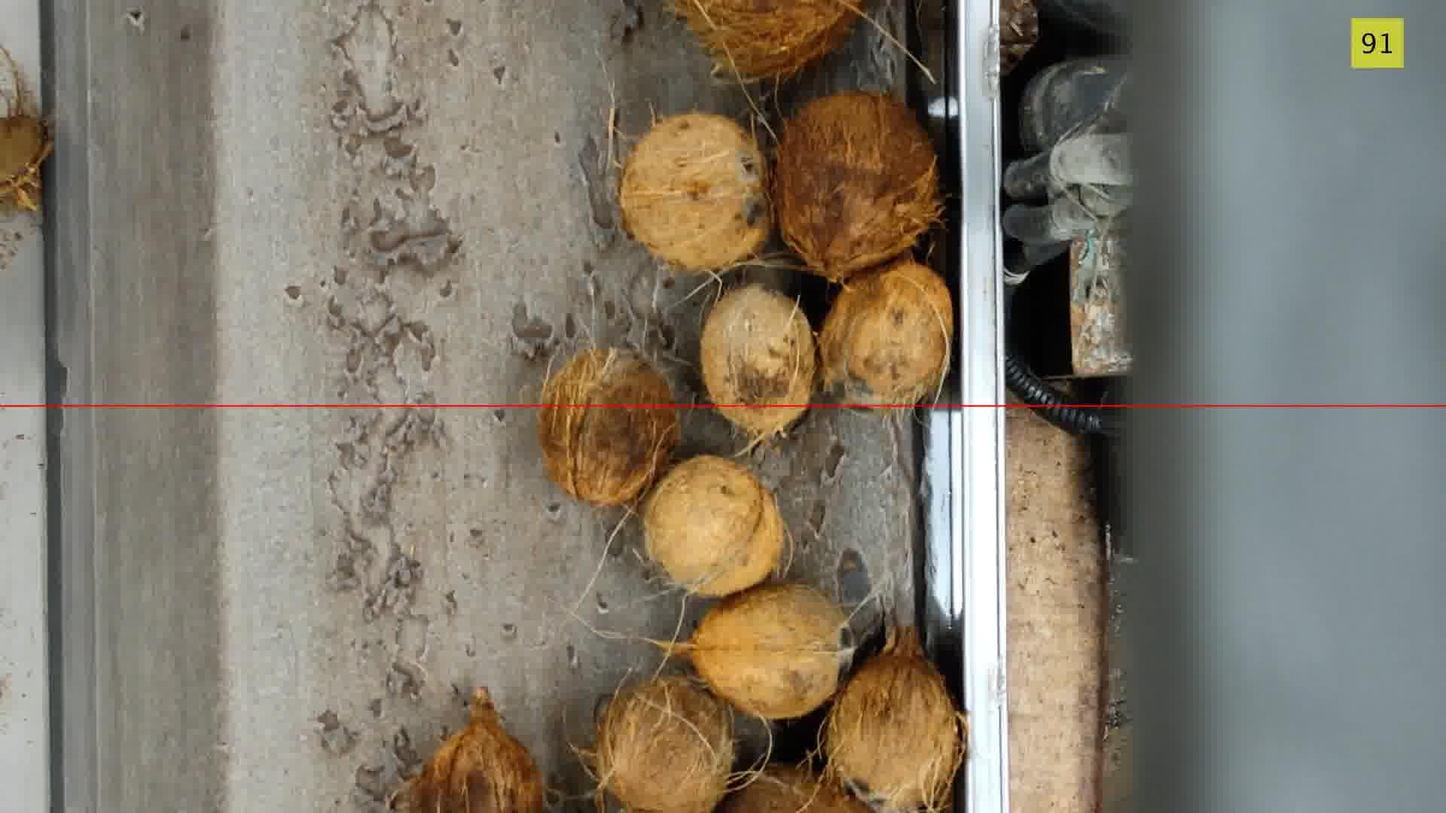Coconut: (773, 92, 941, 281), (824, 629, 966, 812), (617, 112, 772, 272), (677, 583, 853, 720), (538, 349, 680, 506), (819, 257, 954, 408), (642, 455, 785, 596), (591, 676, 735, 812), (700, 283, 817, 445), (405, 687, 545, 812), (670, 0, 859, 81), (0, 48, 53, 210), (717, 766, 869, 812)
